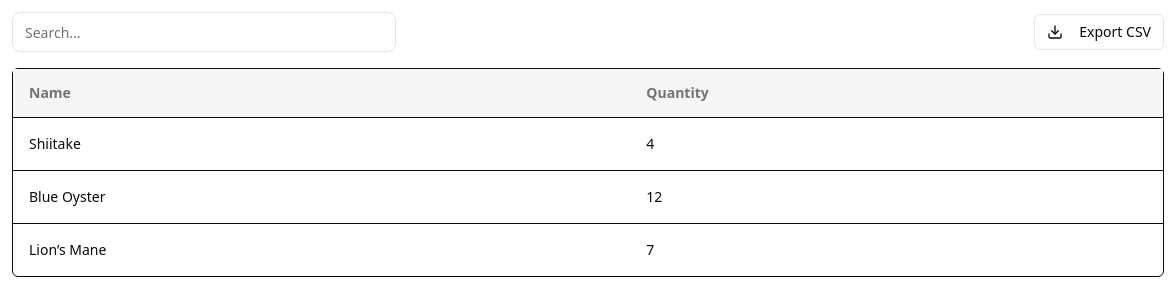
Test: DataTable interactions › sorts a column in both directions
The image size is (1176, 294).
What coordinates should you click on to do the following:
click the button "Name"
I would click on:
 (50, 92)
Its box is [29, 83, 614, 103].
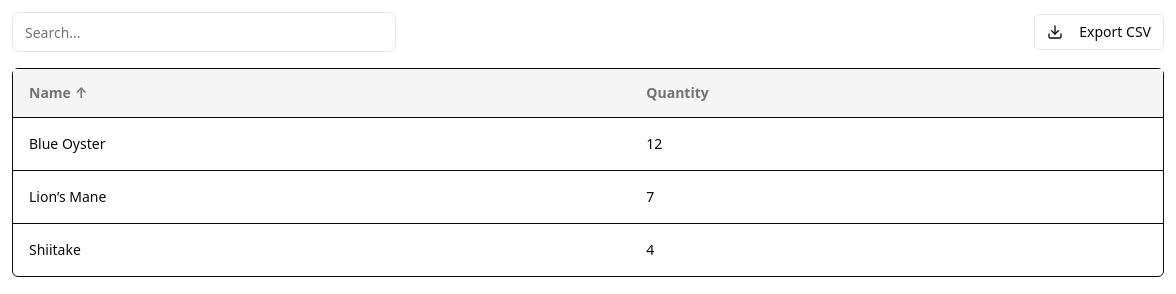
Check: the text "Blue Oyster" is shown, box [13, 117, 630, 170]
What coordinates should you click on to do the following:
click the button "Name↑"
I would click on:
 (50, 92)
Its box is [29, 83, 614, 103].
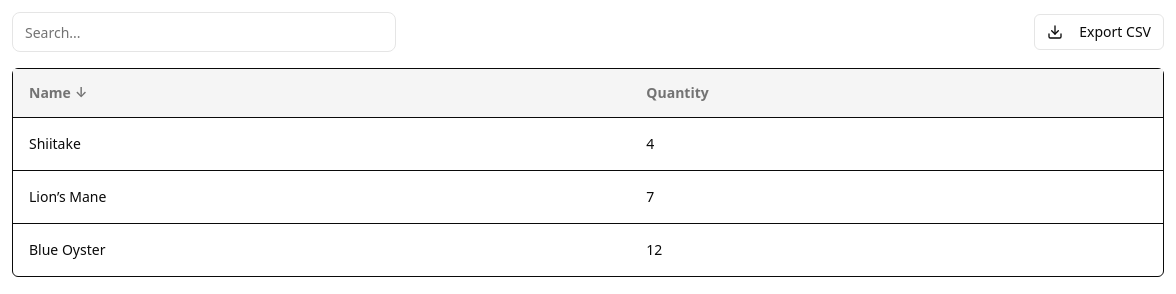
Check: the text "Shiitake" is shown, box [13, 117, 630, 170]
